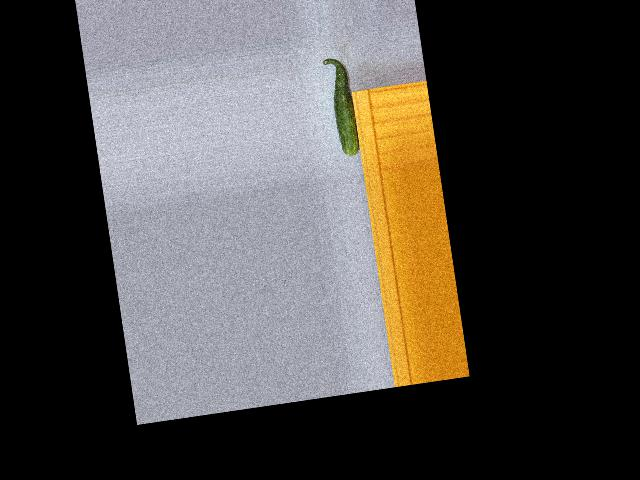cucumber: (321, 55, 361, 157)
